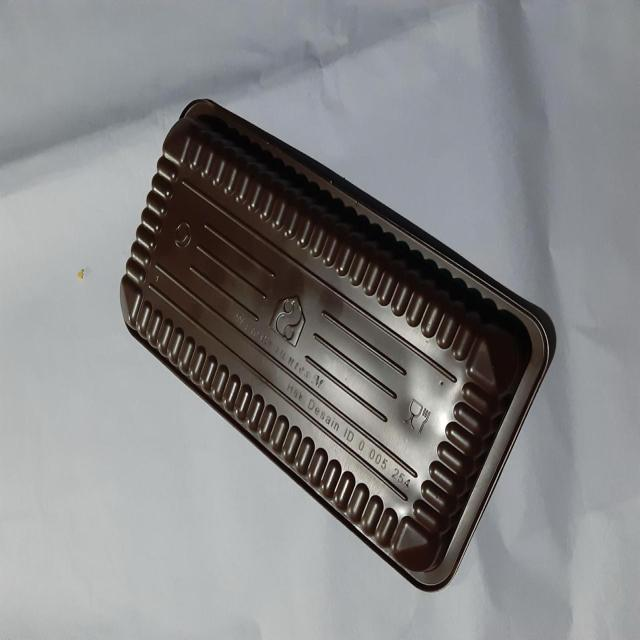KemasanPlastik: (119, 96, 556, 593)
